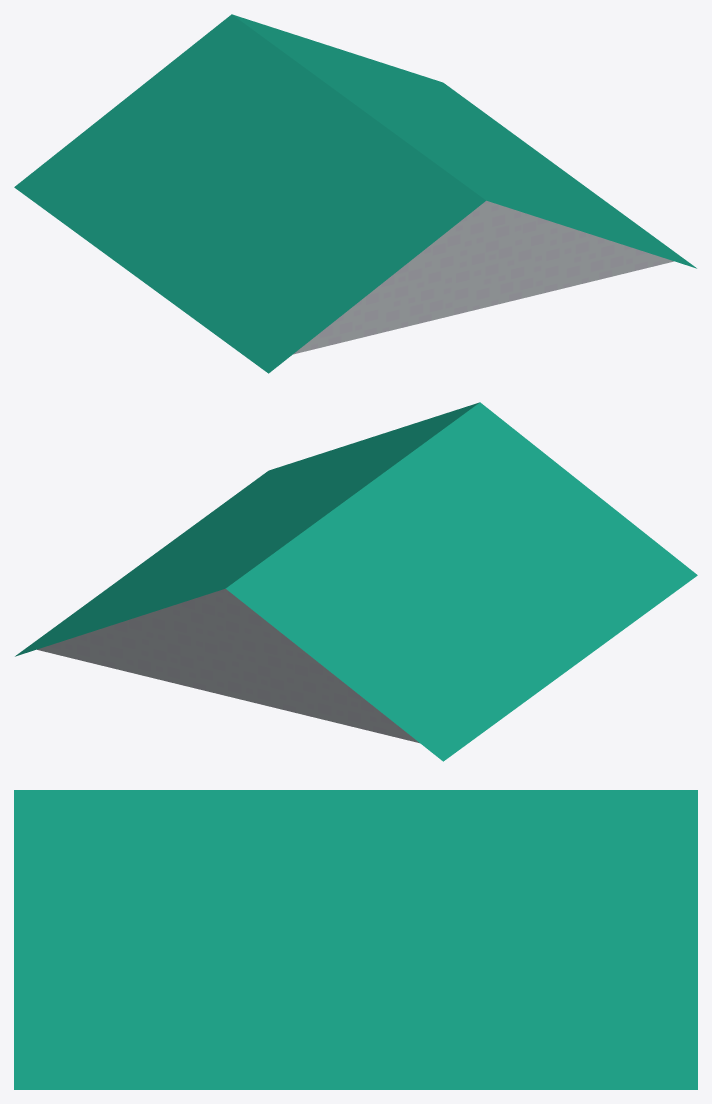
File: building_s500-500_floor2.glb
The picture shows the model from 3 angles, top to bottom: view 1: azimuth 30°, elevation 25°; view 2: azimuth 150°, elevation 25°; view 3: azimuth 270°, elevation 25°; orthographic projection. The views are drawn at different scales.
Visible parts, largest first — view 1: building_s500-500_floor2; view 2: building_s500-500_floor2; view 3: building_s500-500_floor2.
Part boxes in pixels (bbox=[...]): building_s500-500_floor2: bbox=[14, 14, 696, 373]; building_s500-500_floor2: bbox=[15, 402, 697, 761]; building_s500-500_floor2: bbox=[14, 790, 697, 1089].
Bounding box in the file's own units: 7.61 × 2.03 × 7.82.
2 materials, 1 textured.
